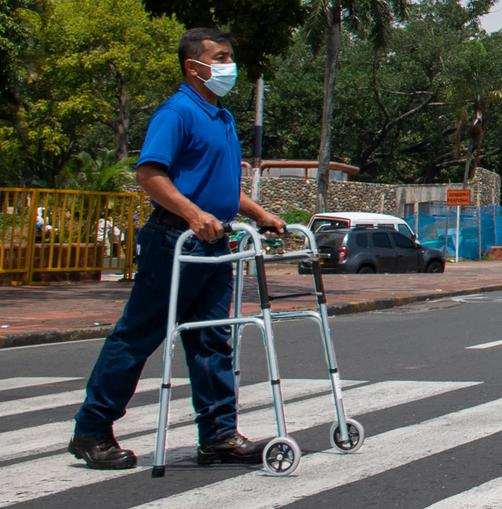walking_frame: (68, 29, 365, 478)
